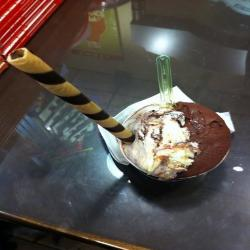icecream: (94, 91, 237, 195)
